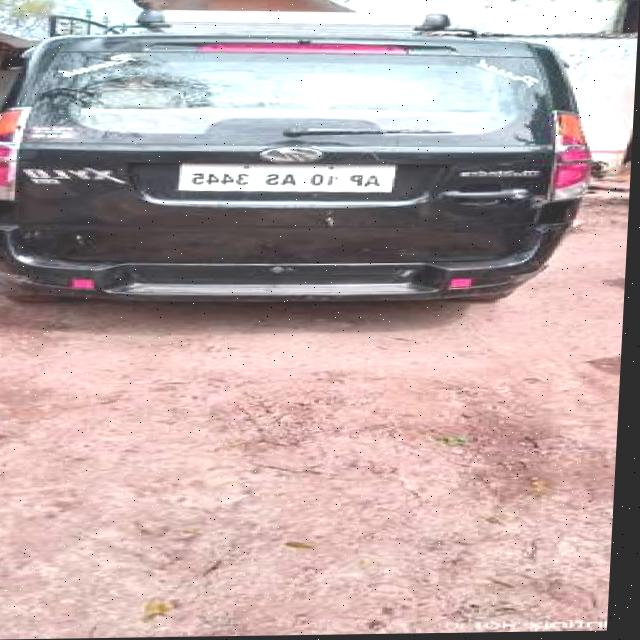plate: (175, 161, 399, 197)
